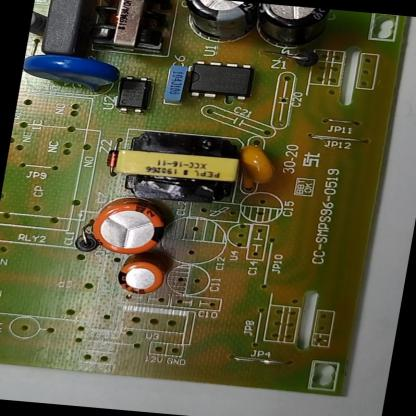Cap1: (82, 195, 177, 262)
Cap2: (109, 251, 173, 299)
Cap3: (169, 0, 264, 51)
Cap4: (240, 2, 340, 55)
MOSFET: (180, 57, 260, 106)
Mov: (20, 48, 129, 97)
Resistor: (28, 3, 52, 41)
Transformer: (105, 126, 249, 210), (81, 0, 176, 59)
